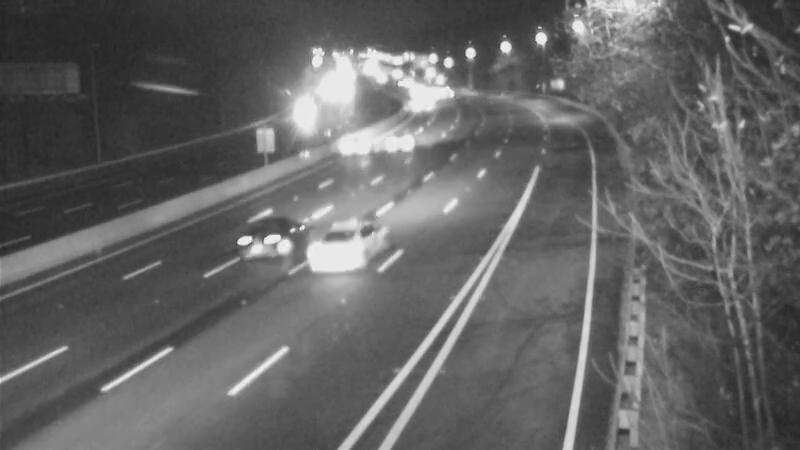vehicle: (235, 195, 315, 275), (302, 204, 382, 284), (397, 83, 447, 133), (371, 113, 421, 163), (331, 119, 381, 169), (278, 92, 328, 142)
